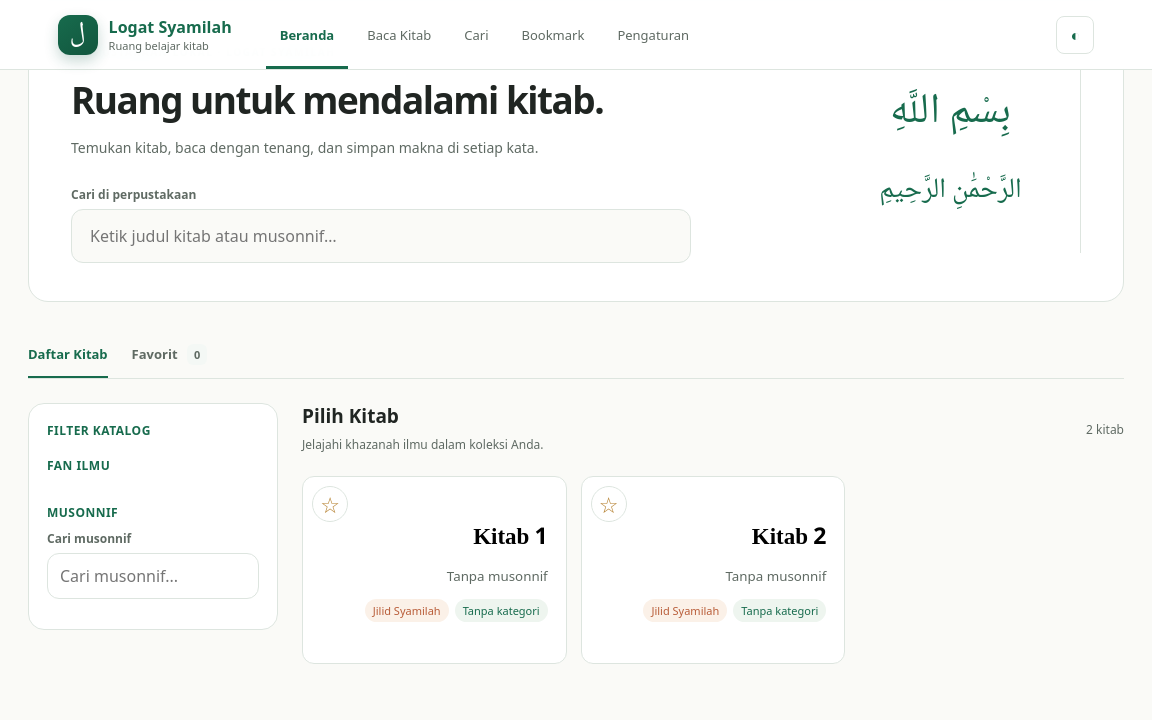
Test: ignores stale page and index responses after opening another book
(page scrolled)
Click the button with class "book-card" that starts with "Kitab 1": [510, 539] box x1=303 y1=477 x2=566 y2=663
(page scrolled)
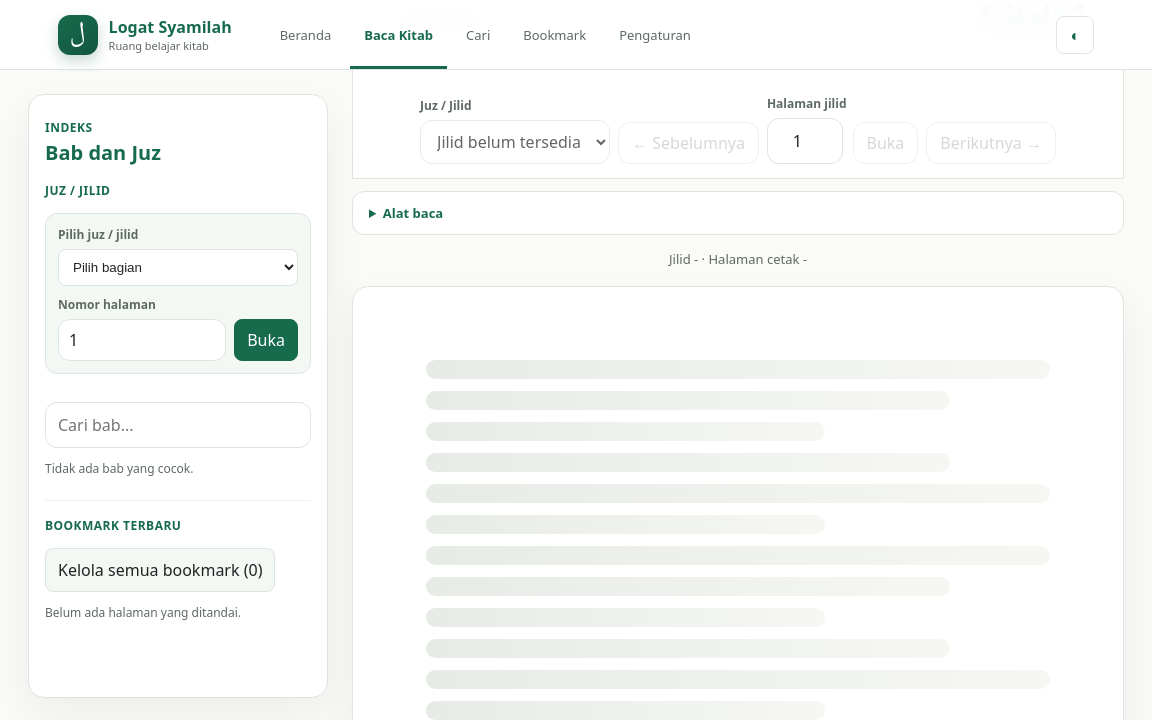
Click the button "Beranda": [305, 34] box x1=266 y1=0 x2=345 y2=69
(page scrolled)
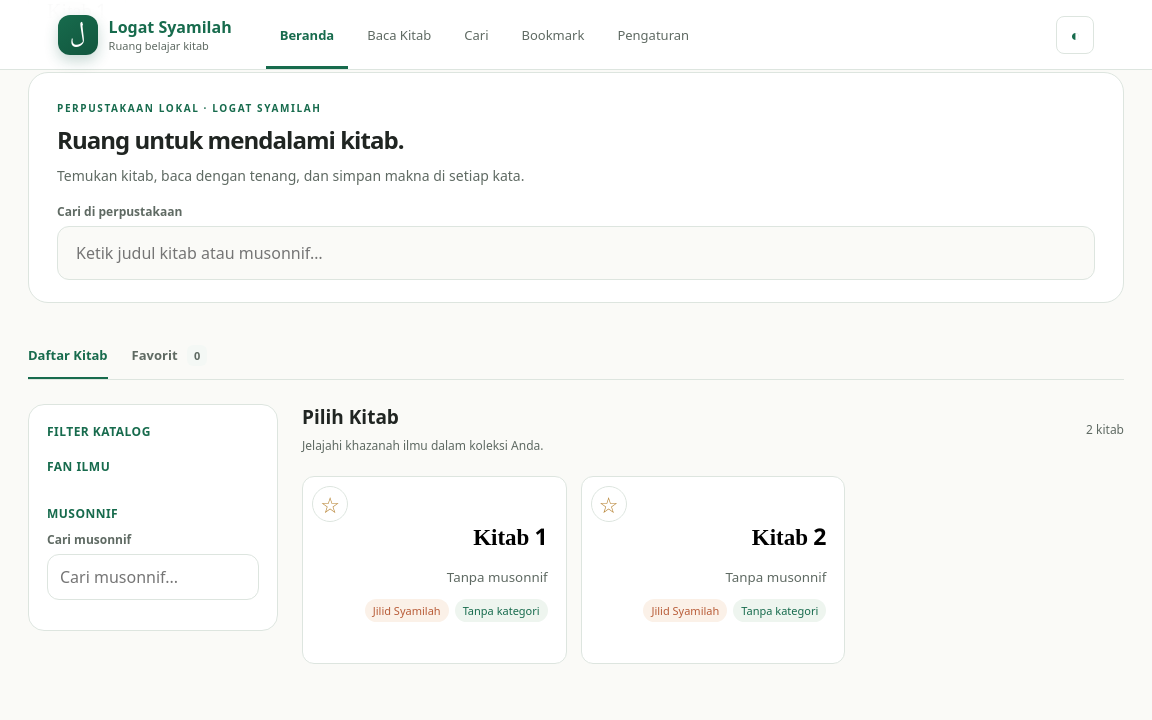
Click the button with class "book-card" that starts with "Kitab 2": [789, 540] box x1=582 y1=477 x2=844 y2=663
(page scrolled)
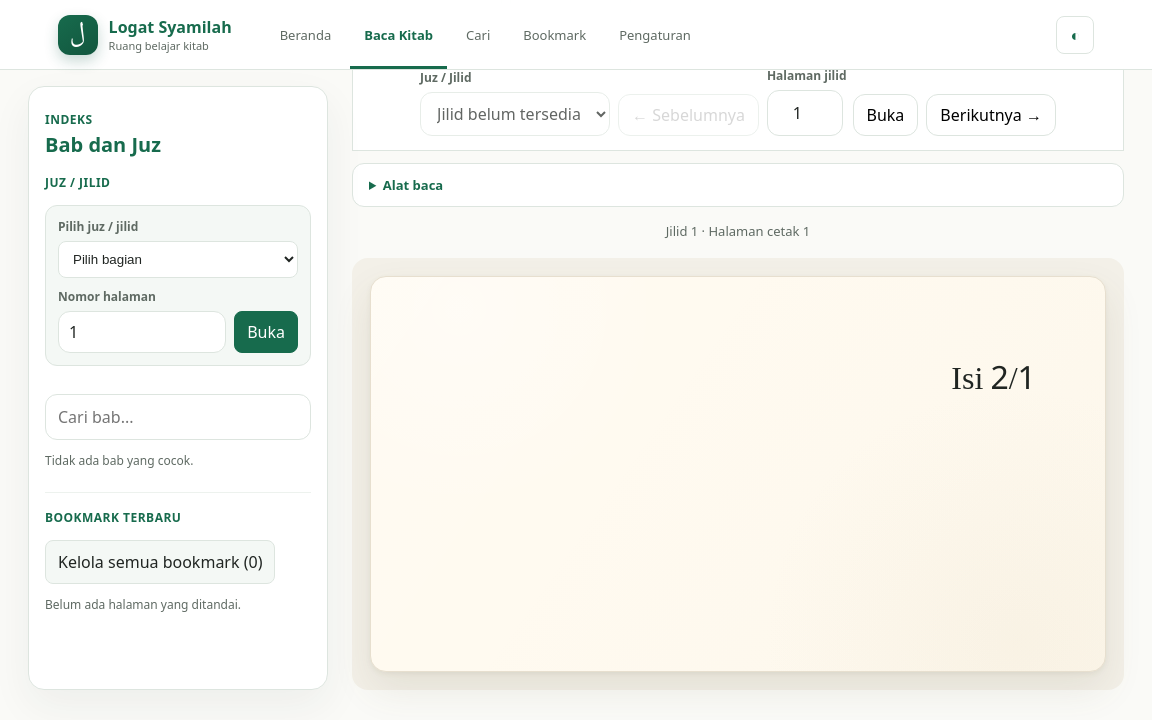
Result: the element showing "Isi 2/1" is shown at x1=370 y1=276 x2=1106 y2=672
